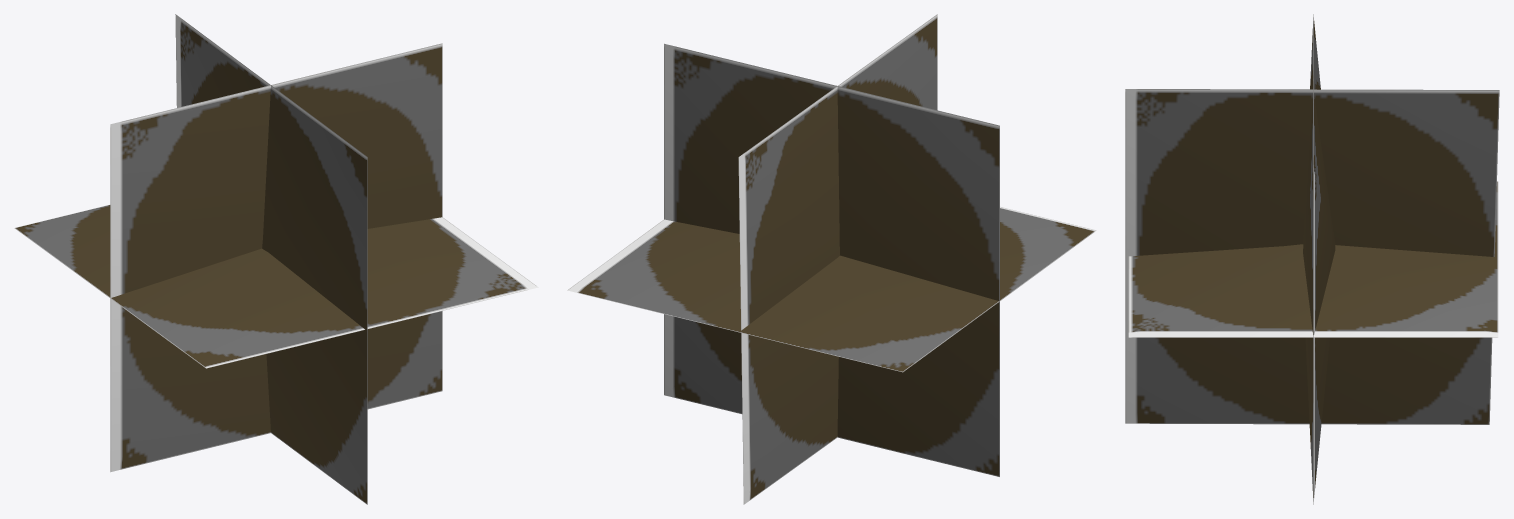
File: dustParticle.fbx
3 views of the same model, side by side, from view 1: azimuth 30°, elevation 25°; view 2: azimuth 150°, elevation 25°; view 3: azimuth 270°, elevation 25° (orthographic). The views are drawn at different scales.
Parts seen in each view (by area): view 1: dustParticle; view 2: dustParticle; view 3: dustParticle.
Part boxes in pixels (x1,y1,x2,y2): dustParticle: [14, 14, 538, 504]; dustParticle: [567, 14, 1096, 504]; dustParticle: [1125, 14, 1499, 504].
Bounding box in the file's own units: 37.66 × 37.66 × 38.16.
1 material, 1 textured.
